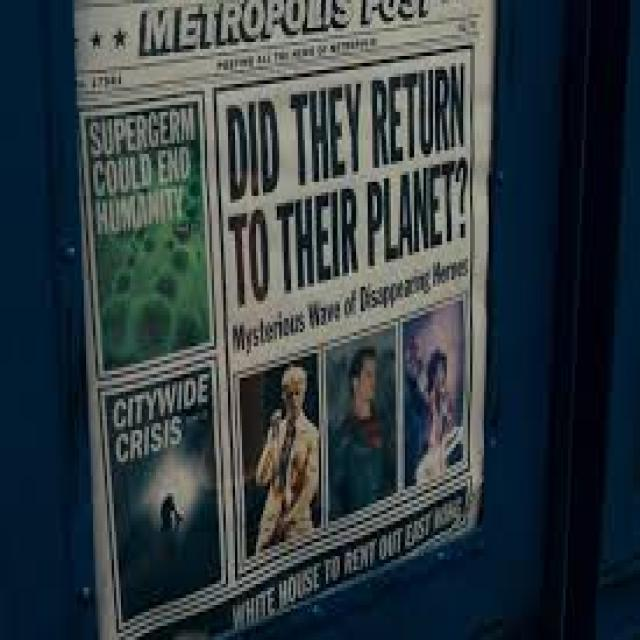paper: (68, 0, 494, 637)
